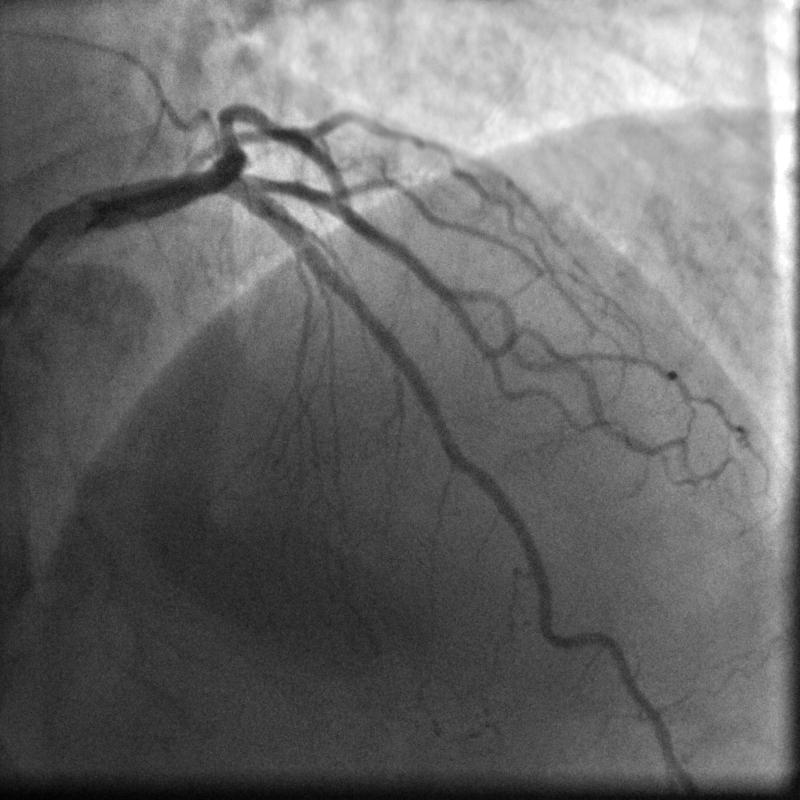Stenosis: (450, 418, 470, 489)
